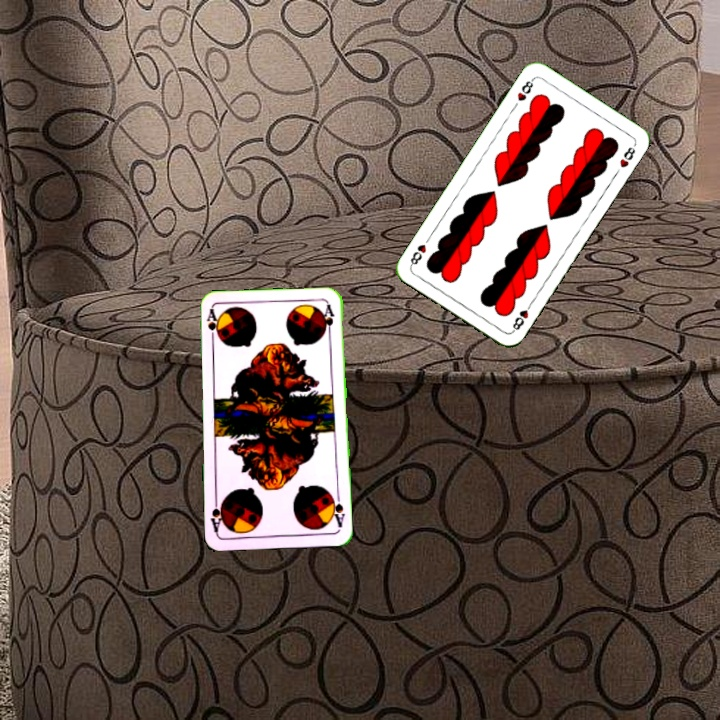H8: (508, 298, 535, 335), (513, 74, 537, 104)
SA: (327, 490, 347, 530), (202, 305, 221, 346)
